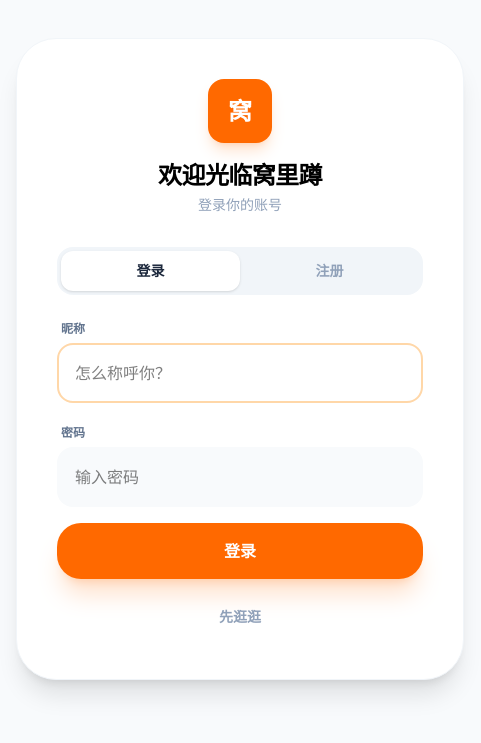
Test: IdentityForm › shows error when registering without dorm
Click the button "注册": (330, 271) [240,251,419,291]
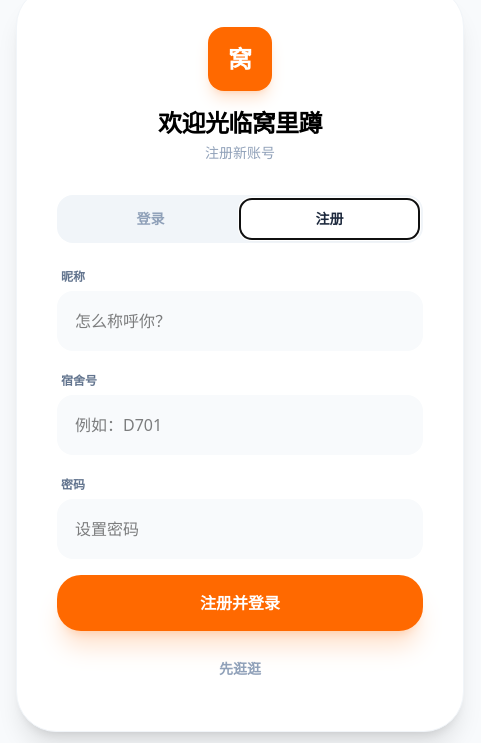
# Fill nickname and password but not dorm
In the field with placeholder "怎么称呼你？": (240, 321) [57,291,423,351], type "testuser"
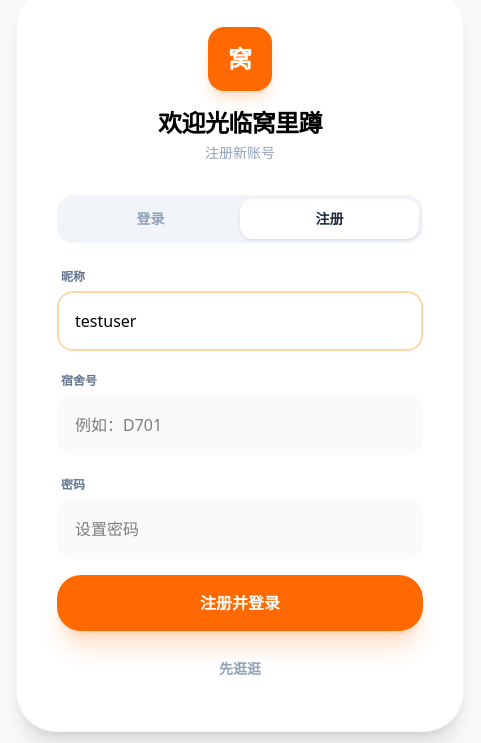
In the password field with placeholder "设置密码": (240, 529) [57,499,423,559], type "pass123"
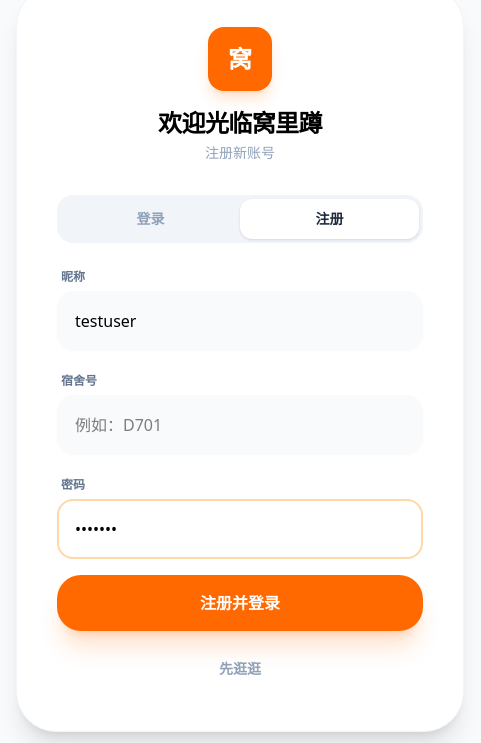
Click the button "注册并登录": (240, 603) [57,575,423,631]
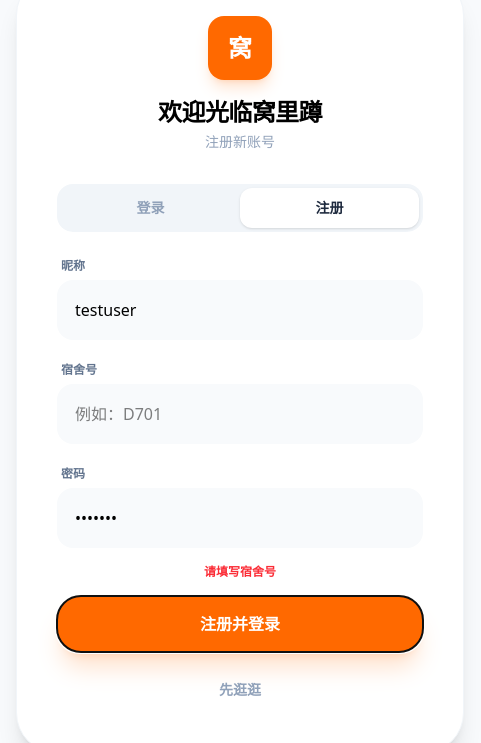
Check: the text "请填写宿舍号" is shown, box [204,563,276,580]
